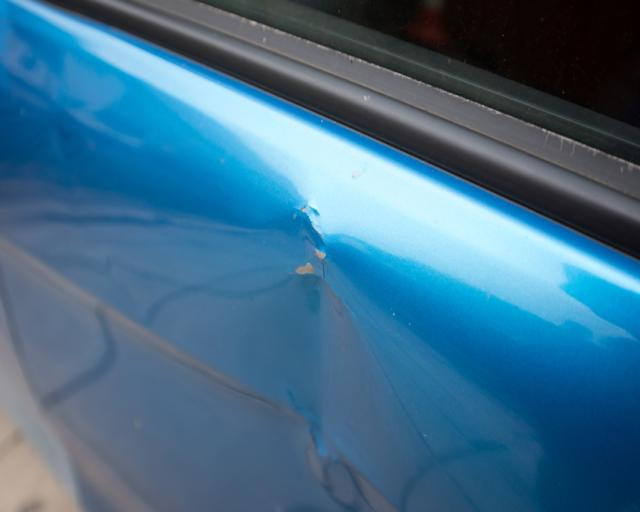dent: (247, 206, 374, 503)
